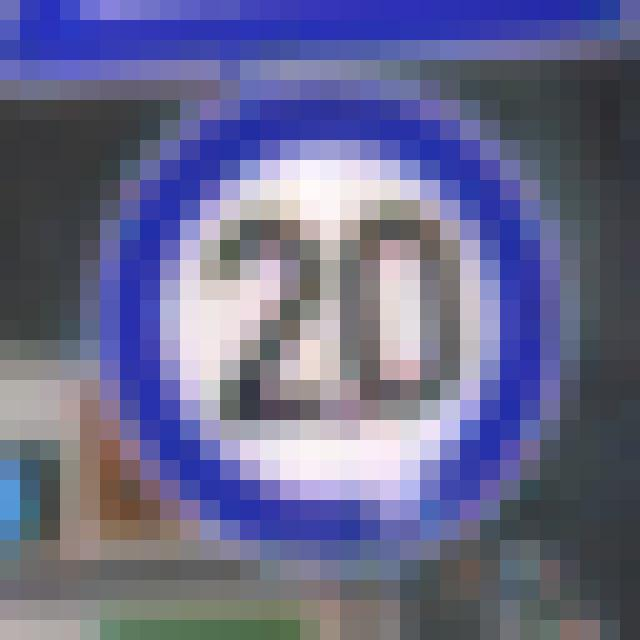SPEED LIMIT 20: (93, 77, 581, 560)
